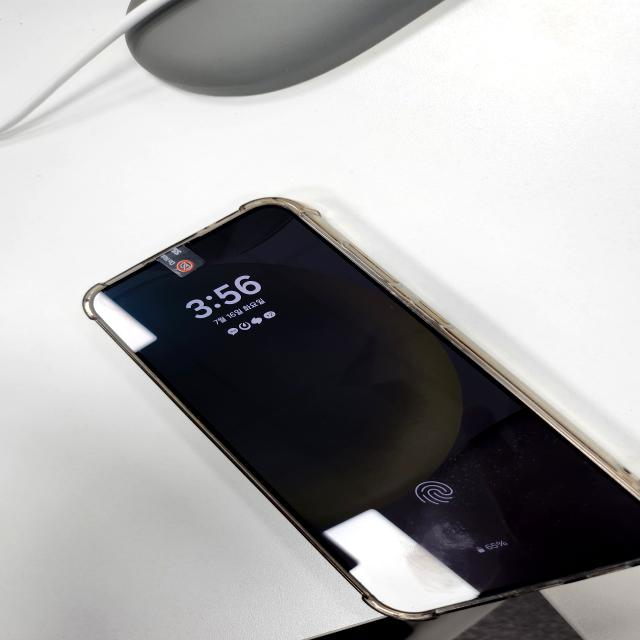phone: (78, 196, 640, 622)
sticker: (155, 243, 203, 277)
